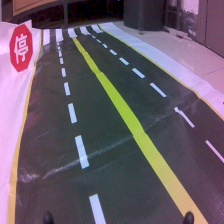stop: (8, 18, 35, 75)
